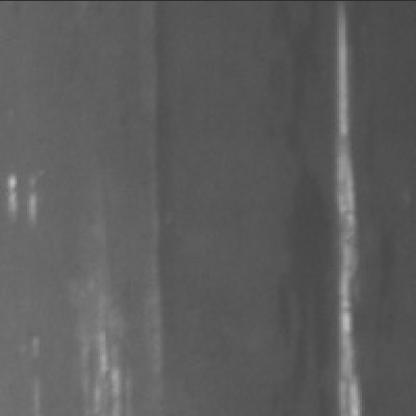scratches: (318, 6, 364, 412)
